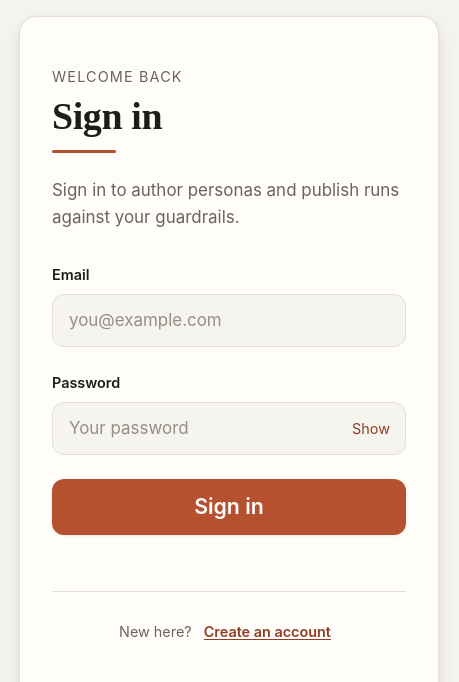
it: LoginPage › should show a loading state while the request is in flight (intentional loading)
Type "ada@example.com" into the field labelled "Email".
click(229, 321); type("ada@example.com")  # box 52,294 -> 406,347
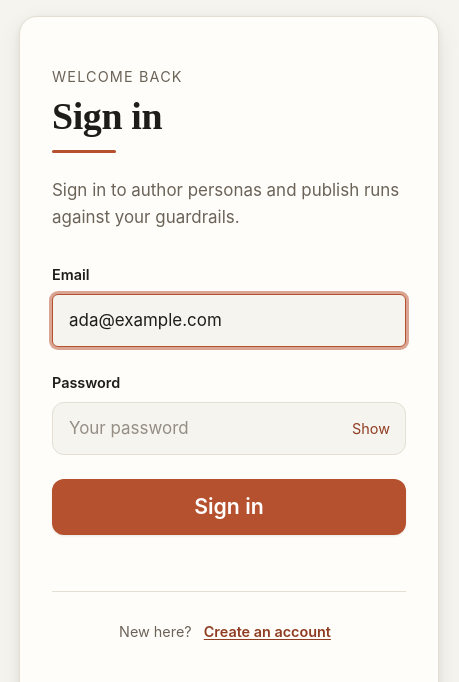
Type "hunter2" into the password field labelled "Password".
click(229, 429); type("hunter2")  # box 52,402 -> 406,455
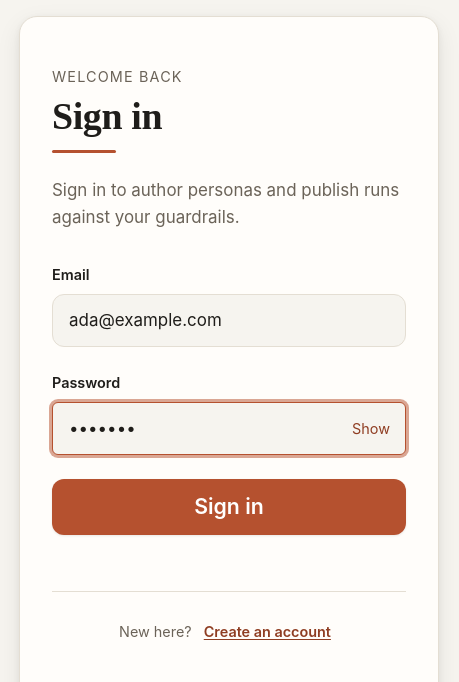
Click the button "Sign in".
click(229, 507)  # box 52,479 -> 406,535
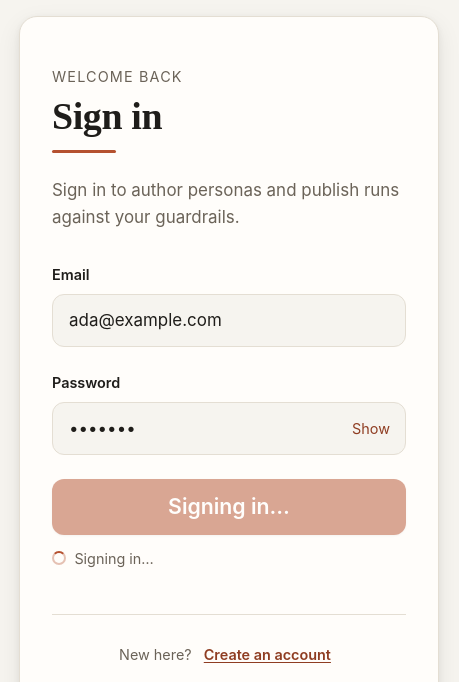
Result: the message reads "Signing in…" at 74,550 -> 154,567
Result: the button "Signing in…" is disabled at 52,479 -> 406,535
